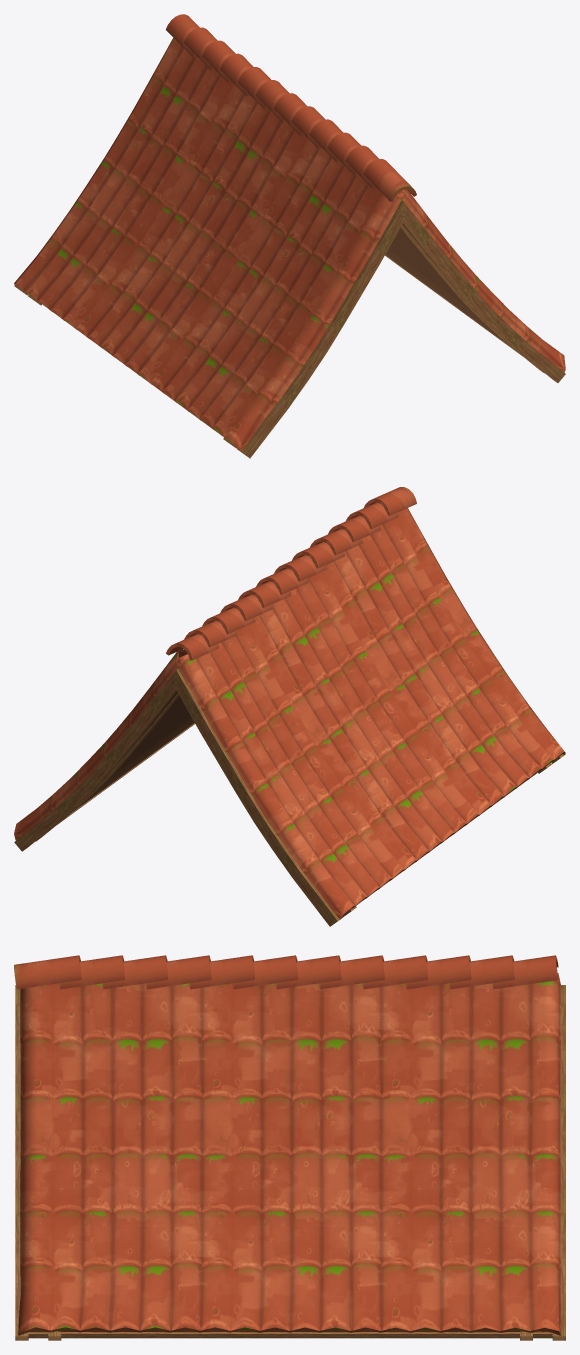
The model's file is roof-qm-roofroundtiles6x8.glb.
The picture shows the model from 3 angles, top to bottom: view 1: azimuth 30°, elevation 25°; view 2: azimuth 150°, elevation 25°; view 3: azimuth 270°, elevation 25°; orthographic projection. The views are drawn at different scales.
Visible parts, largest first — view 1: Cube_015; view 2: Cube_015; view 3: Cube_015.
Boxes of the visible parts, x1,y1,x2,y2 form: Cube_015: (14, 14, 565, 458); Cube_015: (14, 487, 565, 926); Cube_015: (14, 955, 565, 1340).
Bounding box in the file's own units: 8.25 × 5.67 × 9.68.
Materials: 2 (2 with a texture image).
